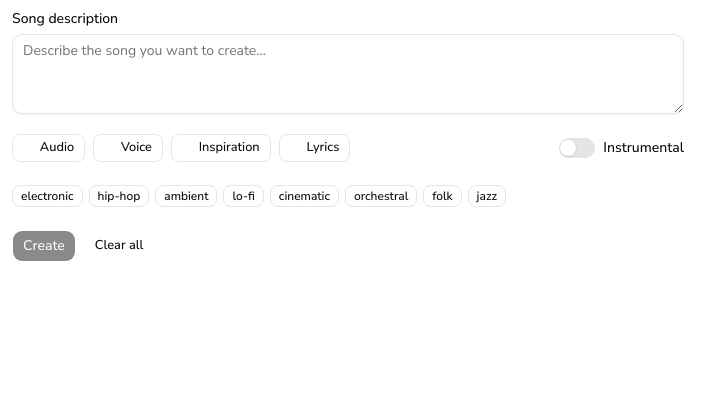
Test: SimpleCreationForm › disables Create again when lyrics are hidden after being the only input
This screenshot has width=704, height=401.
Click the button "Lyrics".
click(314, 148)  # box [279, 134, 350, 162]
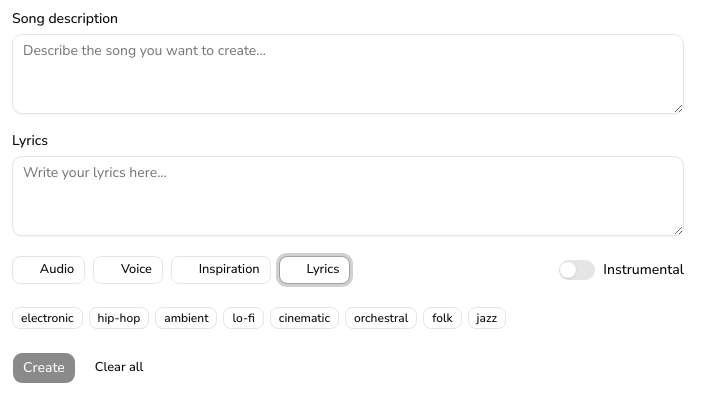
Type "la la la" into the text box labelled "Lyrics".
click(348, 196); type("la la la")  # box [12, 156, 684, 236]
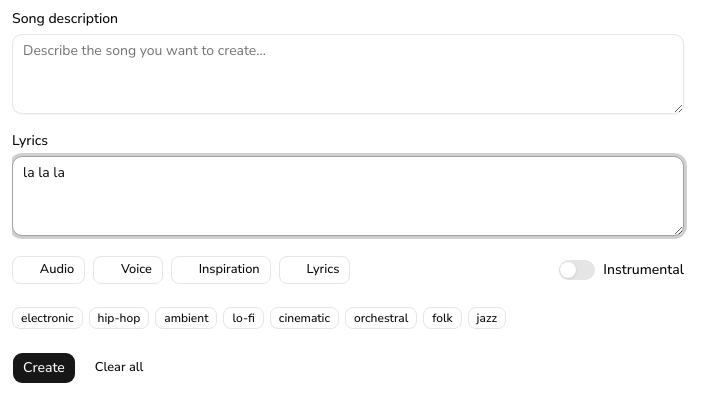
Expected: the button "Create" is enabled, [12, 352, 76, 384]
// Hiding the lyrics field must not leave Create enabled on hidden text.
Click the button "Lyrics".
click(314, 270)  # box [279, 256, 350, 284]
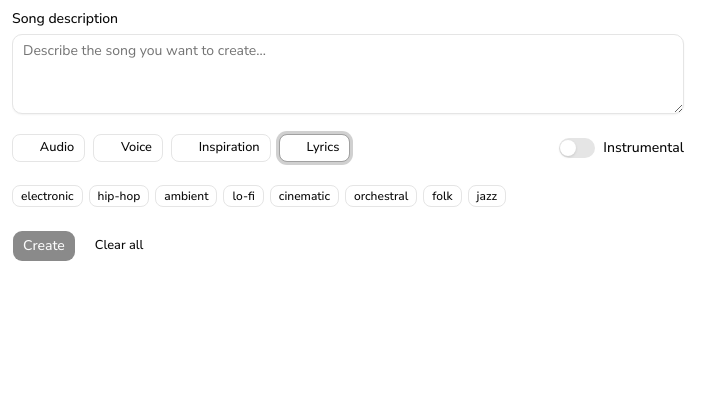
Expected: the button "Create" is disabled, [12, 230, 76, 262]
